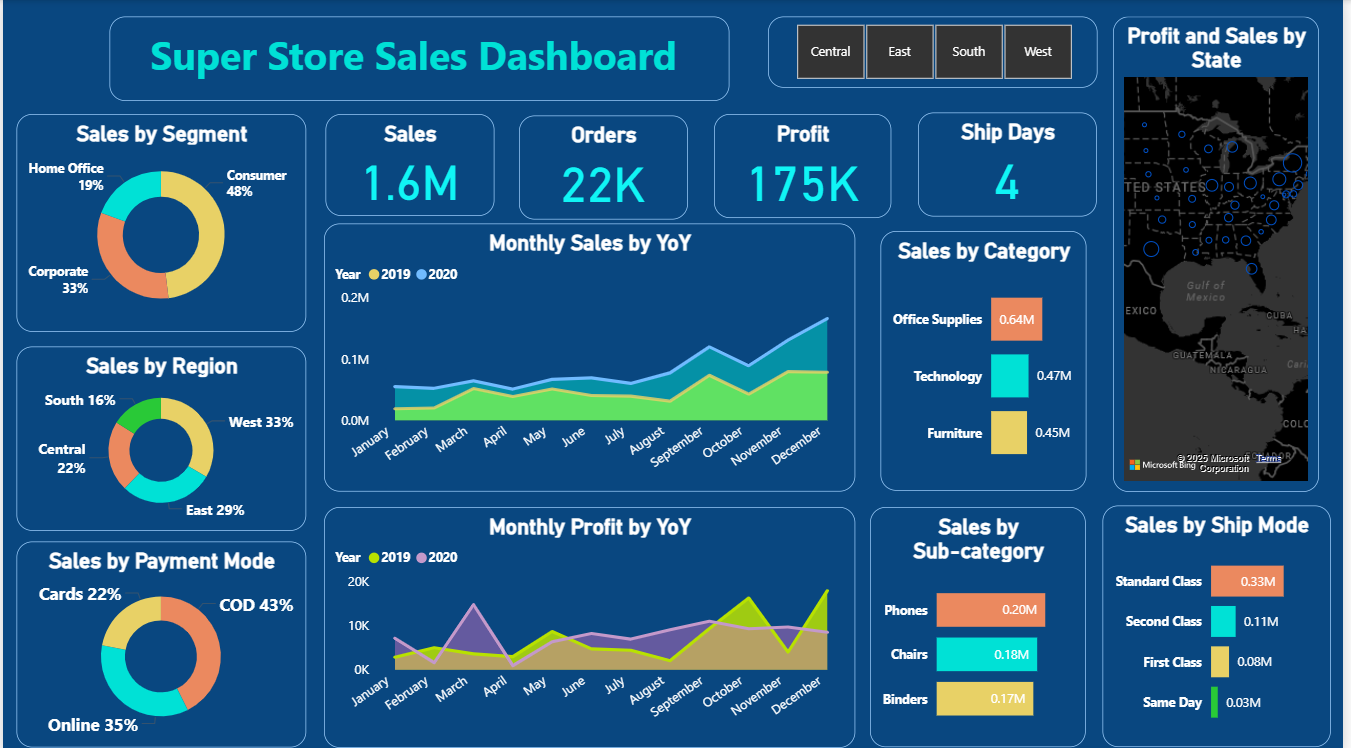

What the dashboard file says about the page in this screenshot:
{"tool":"powerbi","page":{"name":"Dashboard","canvas":[1280,720],"ordinal":0},"visuals":[{"type":"clusteredBarChart","title":" Sales by Sub-category ","fields":{"Category":["SuperStore_Sales_Dataset.Sub-Category"],"Y":["Sum(SuperStore_Sales_Dataset.Sales)"]},"box":[827.9,484.1,206.3,229.2],"z":0},{"type":"clusteredBarChart","title":" Sales by Category ","fields":{"Category":["SuperStore_Sales_Dataset.Category","SuperStore_Sales_Dataset.Sub-Category"],"Y":["Sum(SuperStore_Sales_Dataset.Sales)"]},"box":[837.4,221.1,196.8,248.3],"z":1000},{"type":"clusteredBarChart","title":" Sales by Ship Mode","fields":{"Category":["SuperStore_Sales_Dataset.Ship Mode"],"Y":["Sum(SuperStore_Sales_Dataset.Sales)"]},"box":[1049.9,482.7,217.7,230.6],"z":2000},{"type":"areaChart","title":" Monthly Sales by YoY","fields":{"Y":["Sum(SuperStore_Sales_Dataset.Sales)"],"Category":["SuperStore_Sales_Dataset.Order Date.Variation.Date Hierarchy.Month","SuperStore_Sales_Dataset.Order Date.Variation.Date Hierarchy.Day"],"Series":["SuperStore_Sales_Dataset.Order Date.Variation.Date Hierarchy.Year"]},"box":[307,214,507,256.1],"z":3000},{"type":"areaChart","title":" Monthly Profit by YoY","fields":{"Category":["SuperStore_Sales_Dataset.Order Date.Variation.Date Hierarchy.Month","SuperStore_Sales_Dataset.Order Date.Variation.Date Hierarchy.Day"],"Series":["SuperStore_Sales_Dataset.Order Date.Variation.Date Hierarchy.Year"],"Y":["Sum(SuperStore_Sales_Dataset.Profit)"]},"box":[307,484.2,507,229.8],"z":4000},{"type":"map","title":" Profit and Sales by State","fields":{"Category":["SuperStore_Sales_Dataset.State"],"Size":["Sum(SuperStore_Sales_Dataset.Sales)"]},"box":[1059.9,15.1,196.8,454.3],"z":5000},{"type":"donutChart","title":" Sales by Segment","fields":{"Category":["SuperStore_Sales_Dataset.Segment"],"Y":["Sum(SuperStore_Sales_Dataset.Sales)"]},"box":[13,109,276.5,208.2],"z":6000},{"type":"donutChart","title":" Sales by Payment Mode","fields":{"Y":["Sum(SuperStore_Sales_Dataset.Sales)"],"Category":["SuperStore_Sales_Dataset.Payment Mode"]},"box":[13,517.2,276.5,196.8],"z":7000},{"type":"slicer","fields":{"Values":["SuperStore_Sales_Dataset.Region"]},"box":[730.6,16.1,314.5,67.7],"z":8000},{"type":"textbox","box":[101.6,16.1,591.9,80.6],"z":9000},{"type":"card","title":"Sales ","fields":{"Values":["Sum(SuperStore_Sales_Dataset.Sales)"]},"box":[307.4,109,161,97.6],"z":10000},{"type":"card","title":"Orders","fields":{"Values":["Sum(SuperStore_Sales_Dataset.Quantity)"]},"box":[492.8,110.6,161,99.2],"z":11000},{"type":"card","title":" Profit ","fields":{"Values":["Sum(SuperStore_Sales_Dataset.Profit)"]},"box":[678.3,109,169.2,99.2],"z":12000},{"type":"card","title":"Ship Days ","fields":{"Values":["Avg(SuperStore_Sales_Dataset.avgDelivery)"]},"box":[873.5,107.4,170.8,99.2],"z":13000},{"type":"donutChart","title":" Sales by Region ","fields":{"Y":["Sum(SuperStore_Sales_Dataset.Sales)"],"Category":["SuperStore_Sales_Dataset.Region"]},"box":[13,330.2,276.5,175.7],"z":14000}]}

Visuals, with their boxes in screenshot pixels (x1, y1, x2, y2), scaled from the page's 1280x720 canvas onto the 1351x748 screenshot:
" Sales by Sub-category " clusteredBarChart: [left=874, top=503, right=1092, bottom=741]
" Sales by Category " clusteredBarChart: [left=884, top=230, right=1092, bottom=488]
" Sales by Ship Mode" clusteredBarChart: [left=1108, top=501, right=1338, bottom=741]
" Monthly Sales by YoY" areaChart: [left=324, top=222, right=859, bottom=488]
" Monthly Profit by YoY" areaChart: [left=324, top=503, right=859, bottom=742]
" Profit and Sales by State" map: [left=1119, top=16, right=1326, bottom=488]
" Sales by Segment" donutChart: [left=14, top=113, right=306, bottom=330]
" Sales by Payment Mode" donutChart: [left=14, top=537, right=306, bottom=742]
slicer - SuperStore_Sales_Dataset.Region: [left=771, top=17, right=1103, bottom=87]
textbox: [left=107, top=17, right=732, bottom=100]
"Sales " card: [left=324, top=113, right=494, bottom=215]
"Orders" card: [left=520, top=115, right=690, bottom=218]
" Profit " card: [left=716, top=113, right=895, bottom=216]
"Ship Days " card: [left=922, top=112, right=1102, bottom=215]
" Sales by Region " donutChart: [left=14, top=343, right=306, bottom=526]
